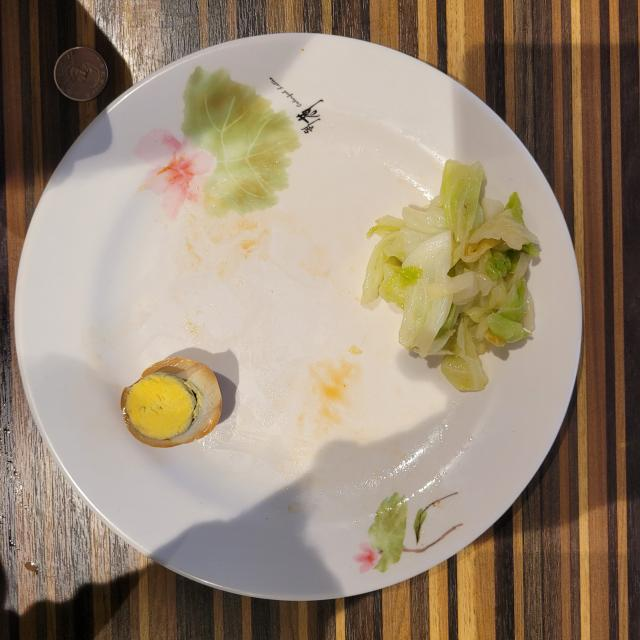cabbage: (361, 160, 539, 391)
coin: (54, 48, 108, 101)
soy egg: (121, 358, 221, 448)
